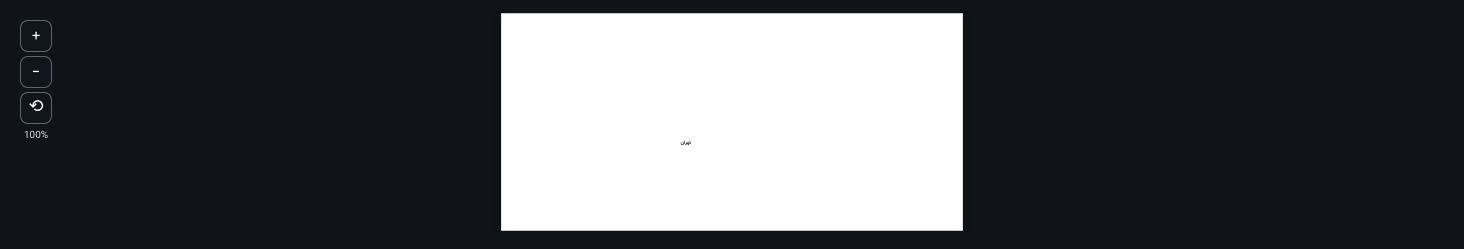
MapWidget › loads only the selected country pack with white land on transparent frame
Click the button named "بزرگ‌نمایی".
click(36, 36)  # box [20,20,52,52]
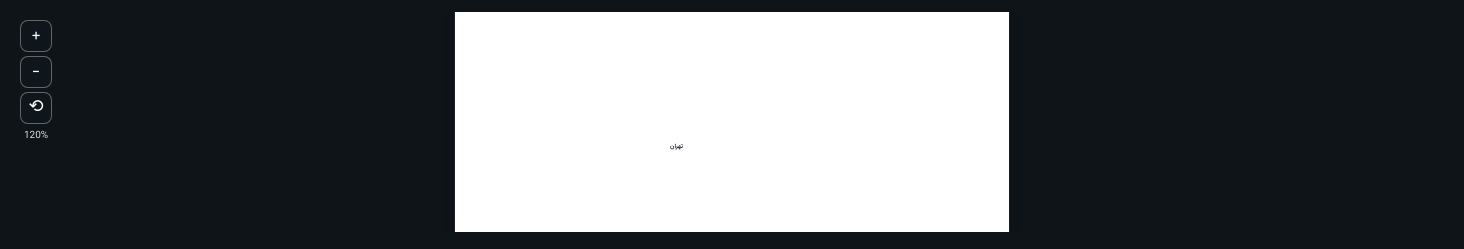
Expected: the text "120%" is shown, [24,128,48,143]
